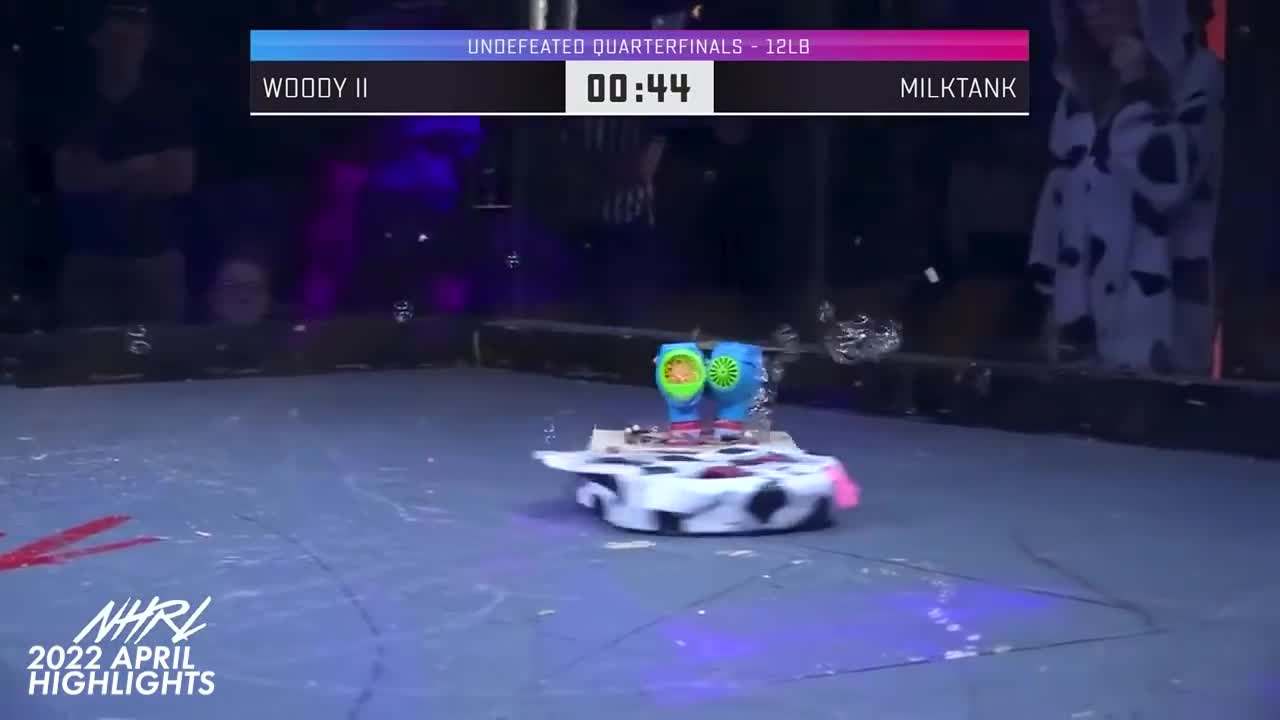combatbot: (532, 341, 859, 538)
